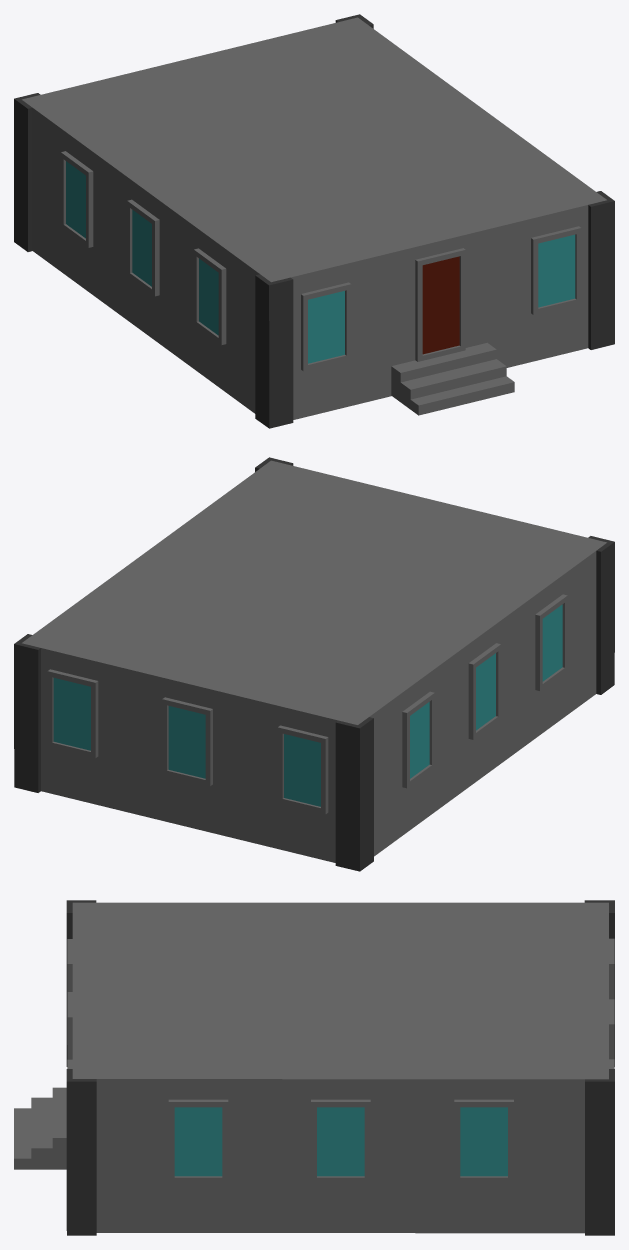
File: bot.obj
3 views of the same model, one above another, from view 1: azimuth 30°, elevation 25°; view 2: azimuth 150°, elevation 25°; view 3: azimuth 270°, elevation 25° (orthographic). The views are drawn at different scales.
Parts seen in each view (by area): view 1: Cube.003_Cube.047; view 2: Cube.003_Cube.047; view 3: Cube.003_Cube.047.
Boxes of the visible parts, bbox=[...] form: Cube.003_Cube.047: bbox=[14, 14, 614, 428]; Cube.003_Cube.047: bbox=[14, 457, 614, 871]; Cube.003_Cube.047: bbox=[14, 900, 614, 1235].
Bounding box in the file's own units: 8.64 × 3.42 × 12.1.
